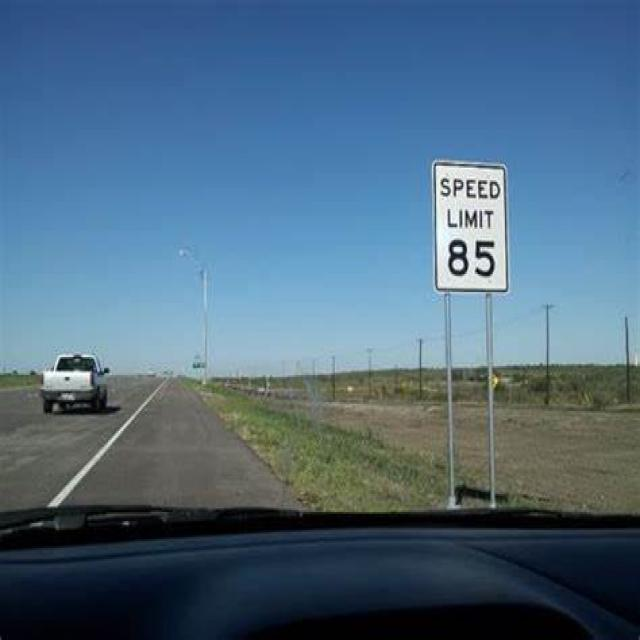speedLimit85: (430, 154, 508, 295)
